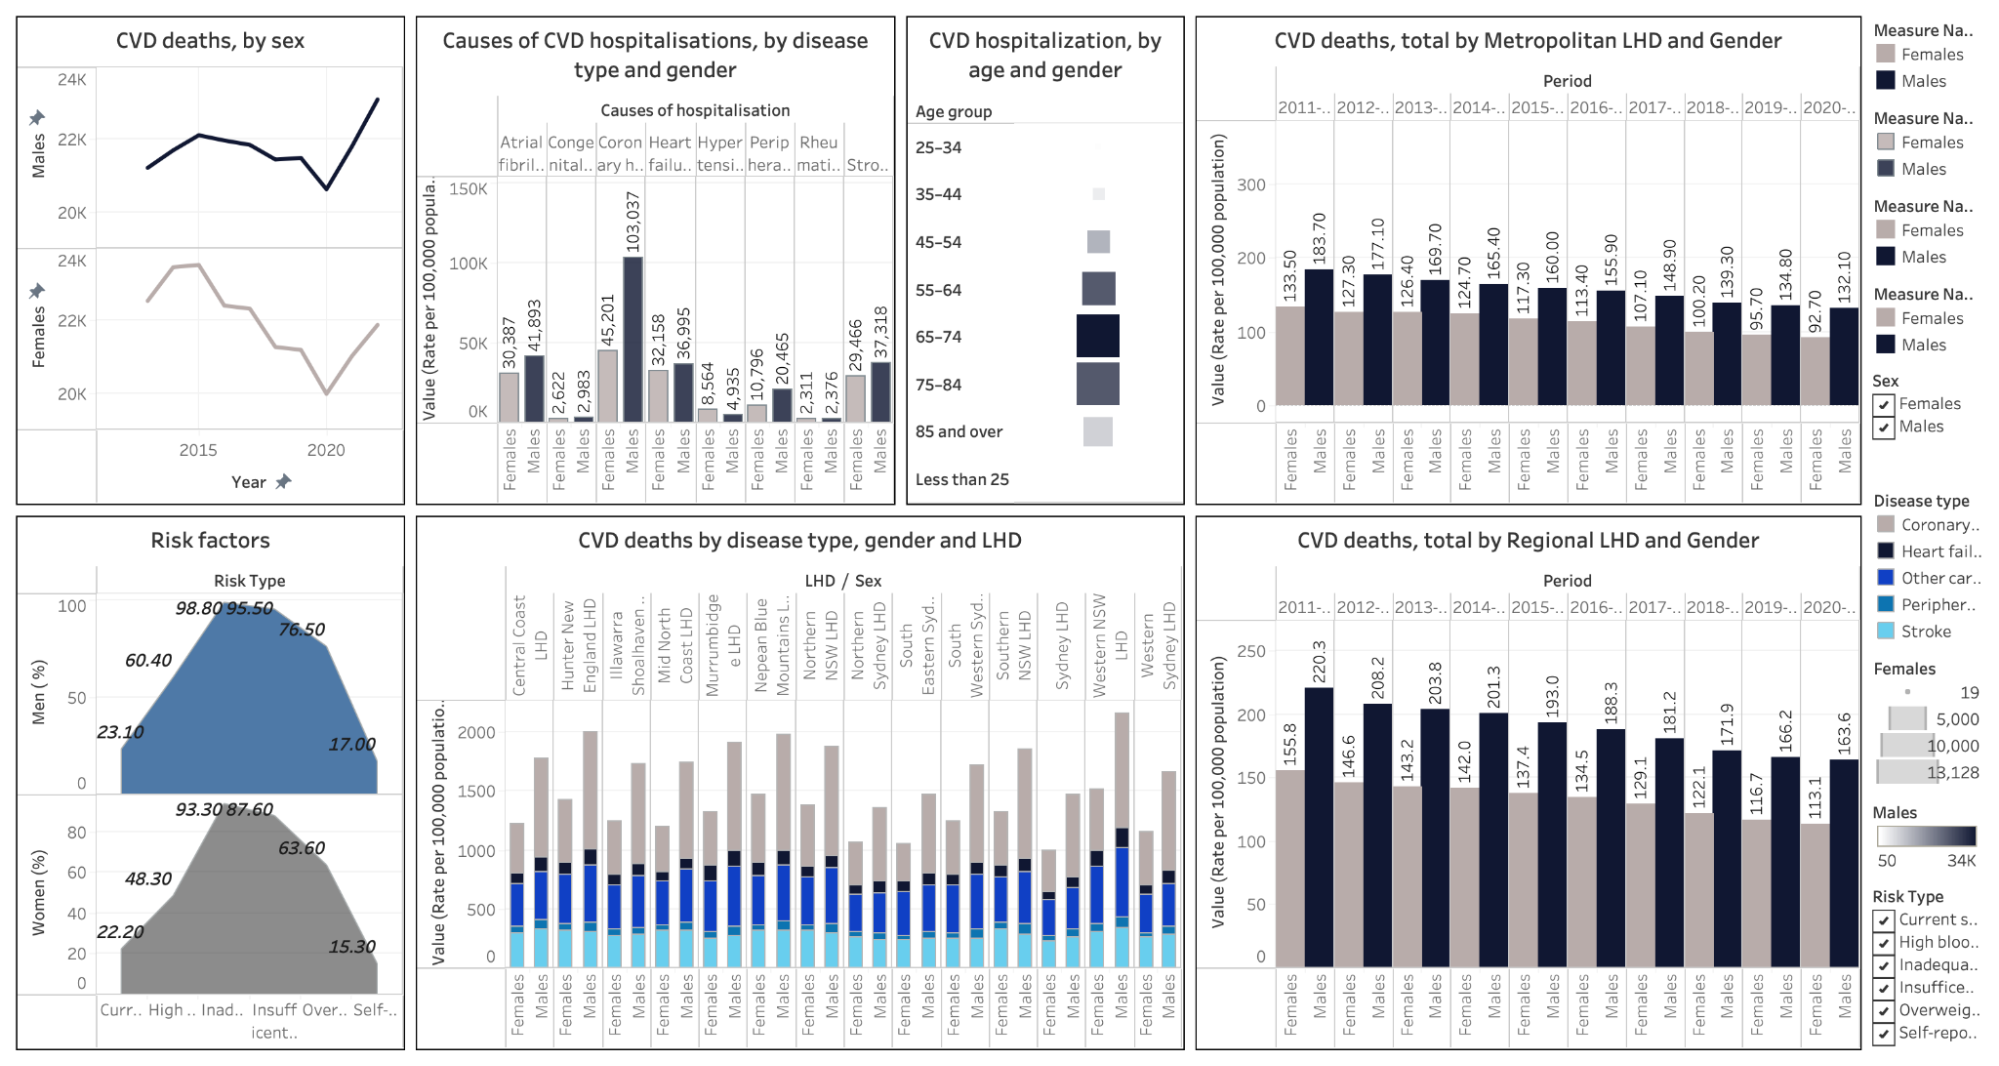

The page's visual inventory and layout, read from the dashboard file:
{"tool":"tableau","page":{"name":"Chronic Disease","canvas":[1500,800],"ordinal":1},"visuals":[{"type":"worksheet","title":"CVD Deaths    ","mark":"Automatic","rows":["Males","Females"],"cols":["Year"],"box":[8,8,299.9,375]},{"type":"worksheet","title":"Causes of CVD hospitalisations","mark":"Automatic","cols":["Causes of hospitalisation"],"box":[307.9,8,368.1,375]},{"type":"worksheet","title":"CVD hospitalisations , by age and sex","mark":"Automatic","rows":["Age group"],"box":[676,8,217.3,375]},{"type":"worksheet","title":"Metropolitan- CVD Deaths","mark":"Automatic","cols":["Period"],"box":[893.3,8,507.7,375]},{"type":"legend","title":"CVD Deaths    ","param":"[federated.07uca3d1mjh4dx1bx51ov10c66ij].[:Measure Names]","box":[1401,8,91,66]},{"type":"legend","title":"Causes of CVD hospitalisations","param":"[federated.176ix9w1i1gy5k13ehoap1lynacr].[:Measure Names]","box":[1401,74,91,66]},{"type":"legend","title":"Metropolitan- CVD Deaths","param":"[federated.05i1m2l0gt2jjz14c693d1np3i9g].[:Measure Names]","box":[1401,140,91,66]},{"type":"legend","title":"Regional-CVD Deaths","param":"[federated.1v6bao10bqnqat1g0y68r1n3sz7i].[:Measure Names]","box":[1401,206,91,66]},{"type":"filter","title":"CVD deaths-Disease type and Sex","param":"[federated.0t0fucu05h0ien1275n300s61a86].[none:Sex:nk]","box":[1401,272,91,89]},{"type":"legend","title":"CVD deaths-Disease type and Sex","param":"[federated.0t0fucu05h0ien1275n300s61a86].[none:Disease type:nk]","box":[1401,361,91,126]},{"type":"worksheet","title":"Risk Factor","mark":"Area","rows":["Men","Women"],"cols":["Risk Type"],"box":[8,383,300,409]},{"type":"worksheet","title":"CVD deaths-Disease type and Sex","mark":"Automatic","rows":["Rate per 100,000 population"],"cols":["LHD","Sex"],"box":[308,383,585,409]},{"type":"worksheet","title":"Regional-CVD Deaths","mark":"Automatic","cols":["Period"],"box":[893,383,508,409]},{"type":"legend","title":"CVD hospitalisations , by age and sex","param":"[federated.0da2awq0k1ktk8153y88w1wslf3g].[sum:Females:qk]","box":[1401,487,91,106]},{"type":"legend","title":"CVD hospitalisations , by age and sex","param":"[federated.0da2awq0k1ktk8153y88w1wslf3g].[sum:Males:qk]","box":[1401,593,91,65]},{"type":"filter","title":"Risk Factor","param":"[federated.0cd3d0r0h9t2rw12vug640pmf860].[none:Risk Type:nk]","box":[1401,658,91,134]}]}

Visuals, with their boxes in screenshot pixels (x1, y1, x2, y2), scaled from the page's 1500x800 canvas onto the 1999x1066 screenshot:
"CVD Deaths    " worksheet: [11, 11, 410, 510]
"Causes of CVD hospitalisations" worksheet: [410, 11, 901, 510]
"CVD hospitalisations , by age and sex" worksheet: [901, 11, 1190, 510]
"Metropolitan- CVD Deaths" worksheet: [1190, 11, 1867, 510]
"CVD Deaths    " legend: [1867, 11, 1988, 99]
"Causes of CVD hospitalisations" legend: [1867, 99, 1988, 187]
"Metropolitan- CVD Deaths" legend: [1867, 187, 1988, 274]
"Regional-CVD Deaths" legend: [1867, 274, 1988, 362]
"CVD deaths-Disease type and Sex" filter: [1867, 362, 1988, 481]
"CVD deaths-Disease type and Sex" legend: [1867, 481, 1988, 649]
"Risk Factor" worksheet (Area marks): [11, 510, 410, 1055]
"CVD deaths-Disease type and Sex" worksheet: [410, 510, 1190, 1055]
"Regional-CVD Deaths" worksheet: [1190, 510, 1867, 1055]
"CVD hospitalisations , by age and sex" legend: [1867, 649, 1988, 790]
"CVD hospitalisations , by age and sex" legend: [1867, 790, 1988, 877]
"Risk Factor" filter: [1867, 877, 1988, 1055]
